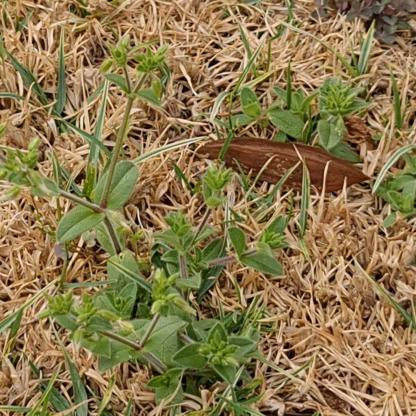Weeds: (3, 31, 289, 415), (230, 73, 415, 217)
